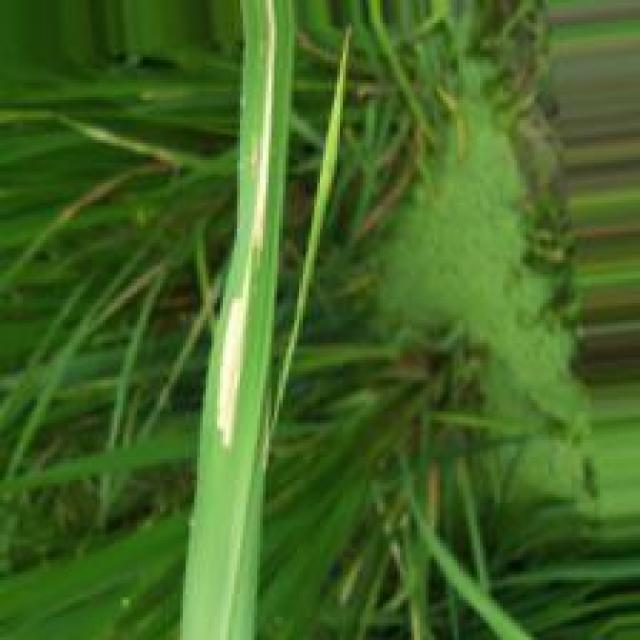Rice_Hispa: (212, 62, 274, 447)
